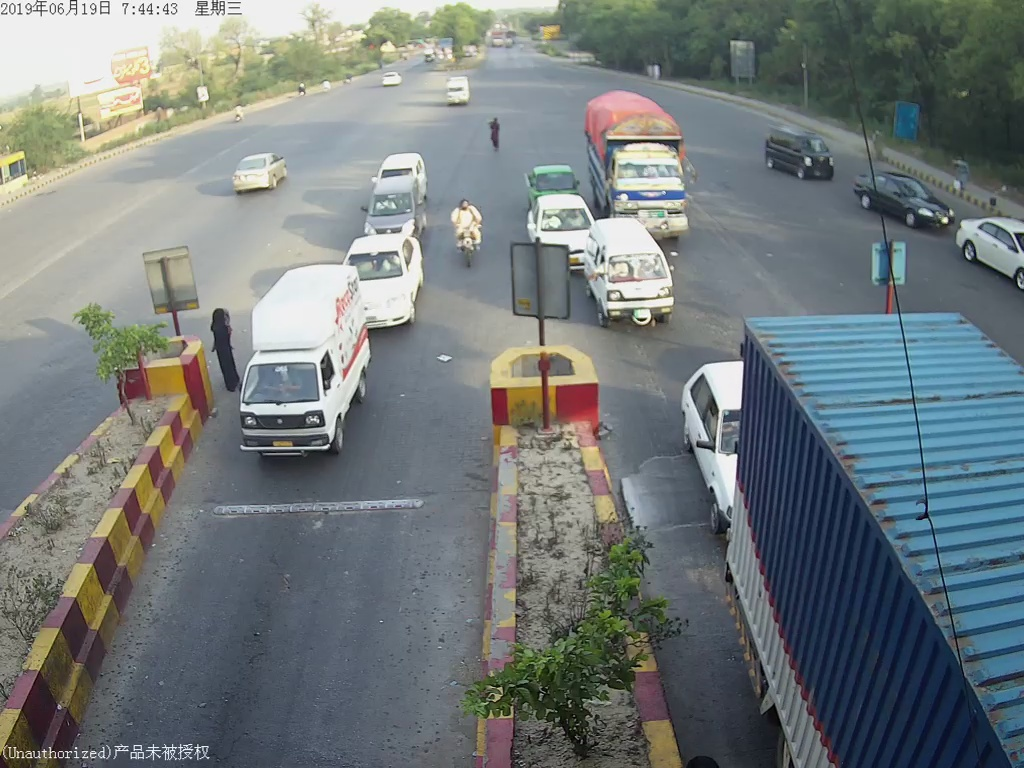Cat-1: (238, 271, 375, 464), (584, 229, 682, 332), (684, 363, 734, 531)
Cat-4: (590, 100, 695, 220)
